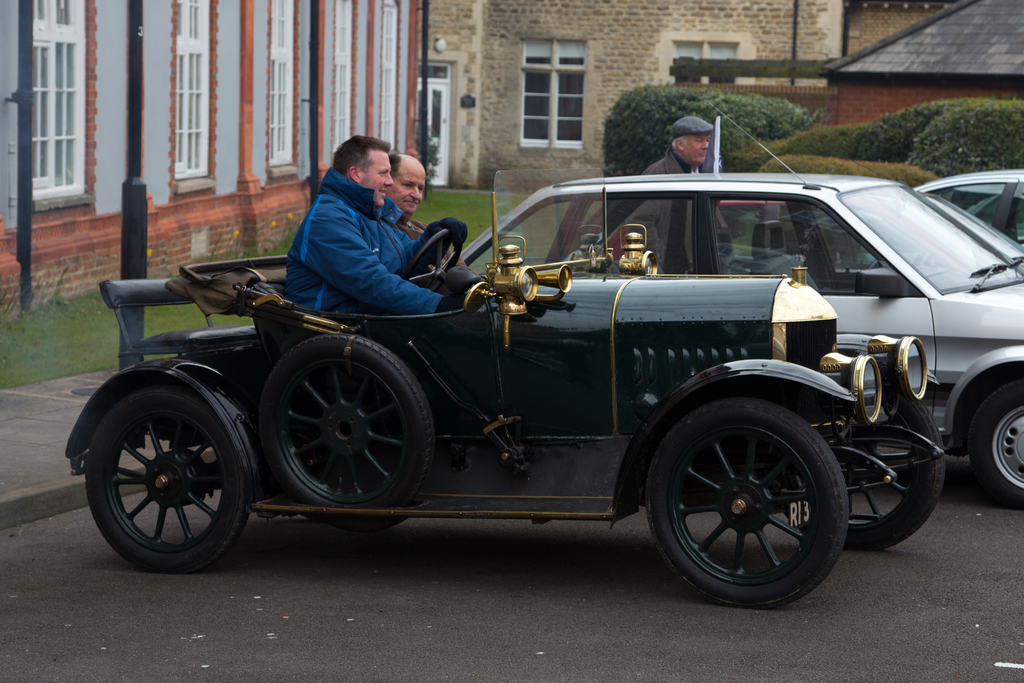Car: (461, 103, 1023, 504), (802, 170, 1020, 271)
